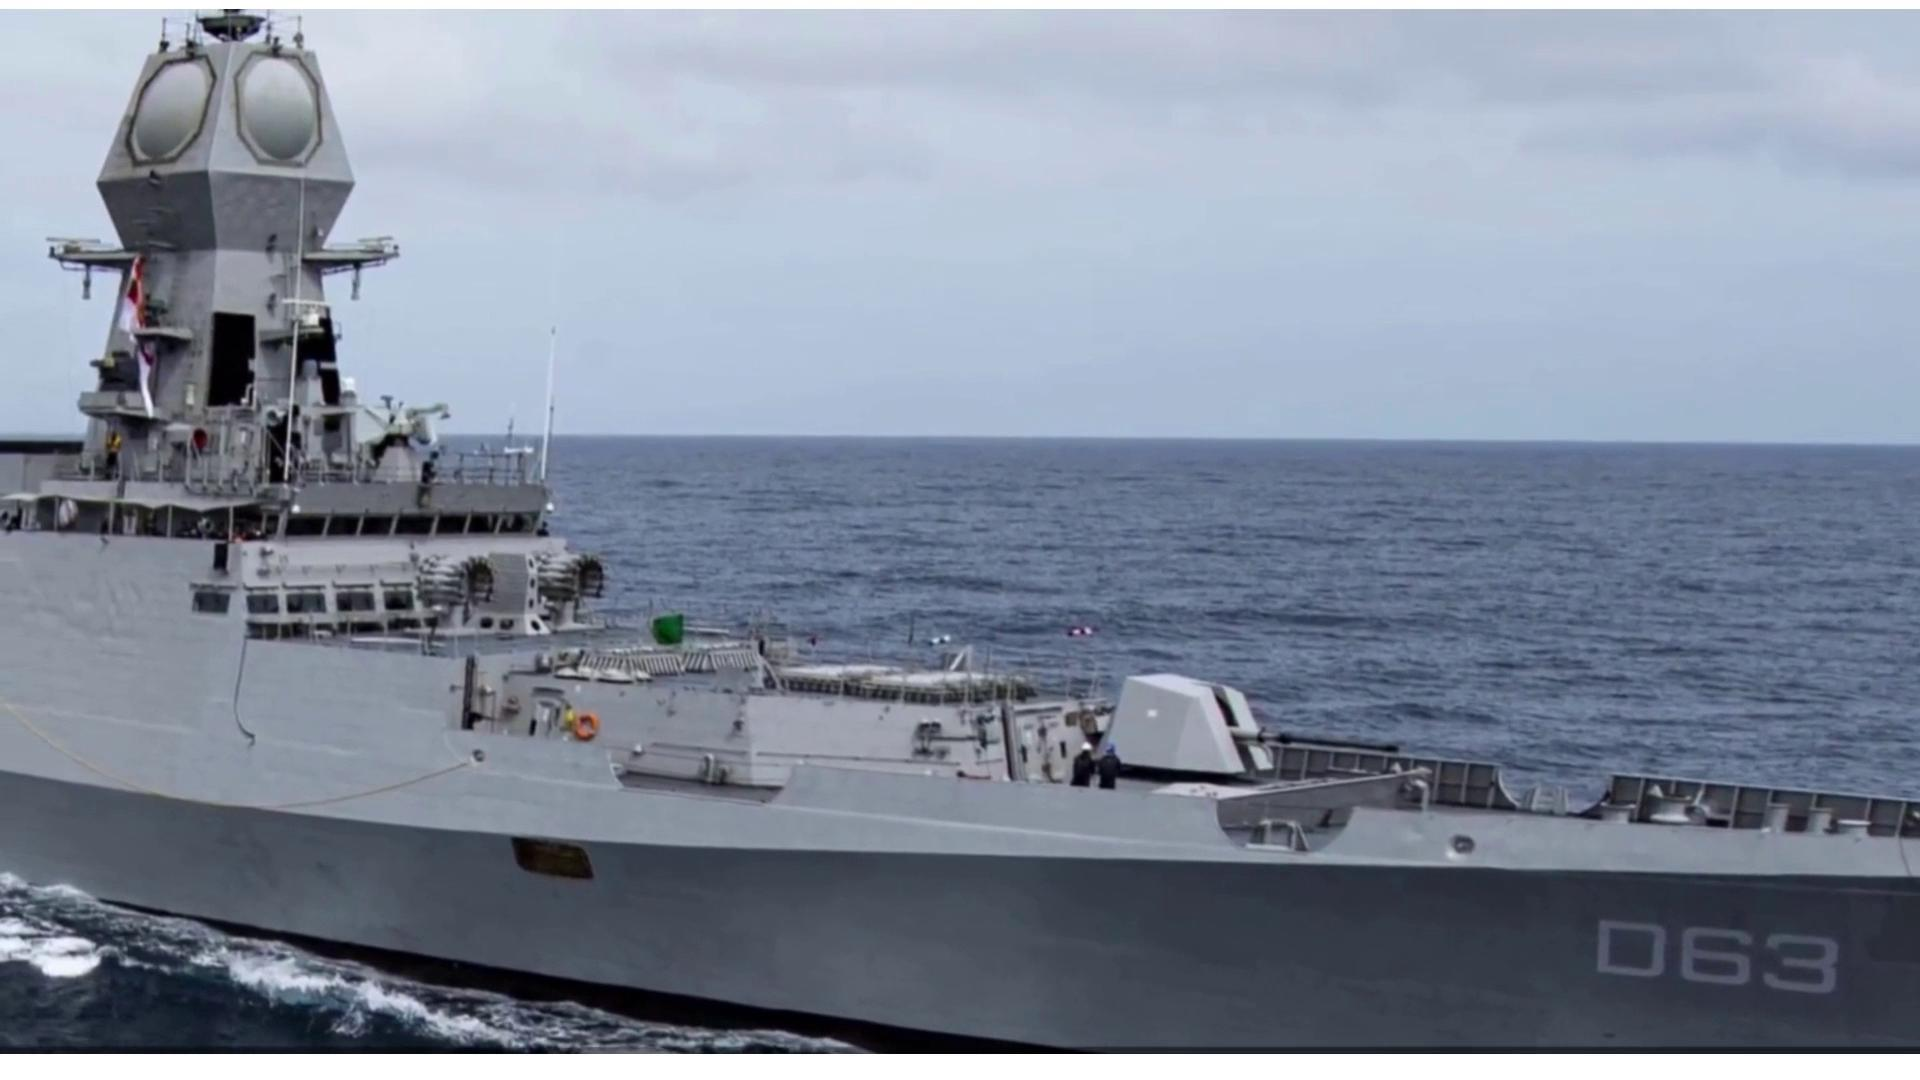OCR: (1589, 910, 1847, 1006)
